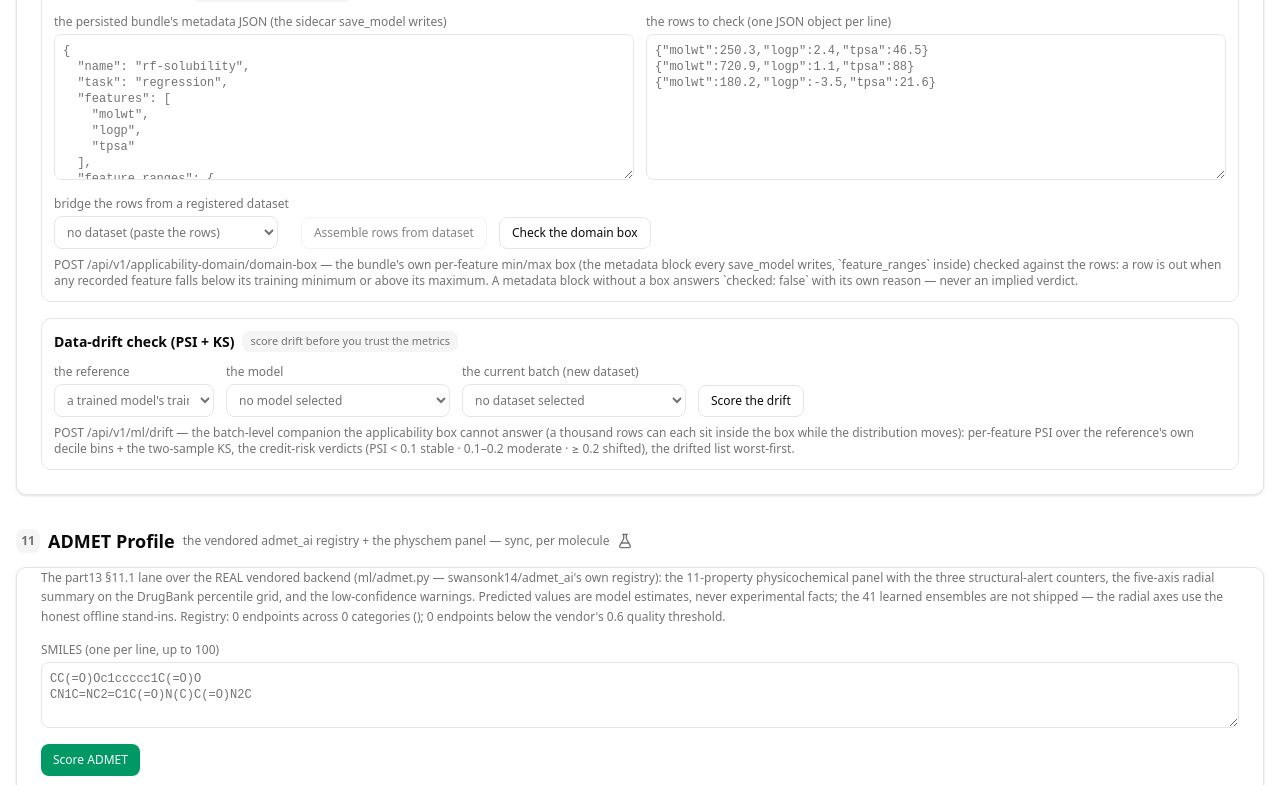
Test: MLPage stage 10f — the ML-5 data-drift lane (the batch-level AD companion) › renders the PSI table with the drifted rows highlighted
The image size is (1280, 785).
(page scrolled)
Select "a registered dataset" in the dropdown named "the drift reference kind" at (134, 400), box 54,384 -> 214,417
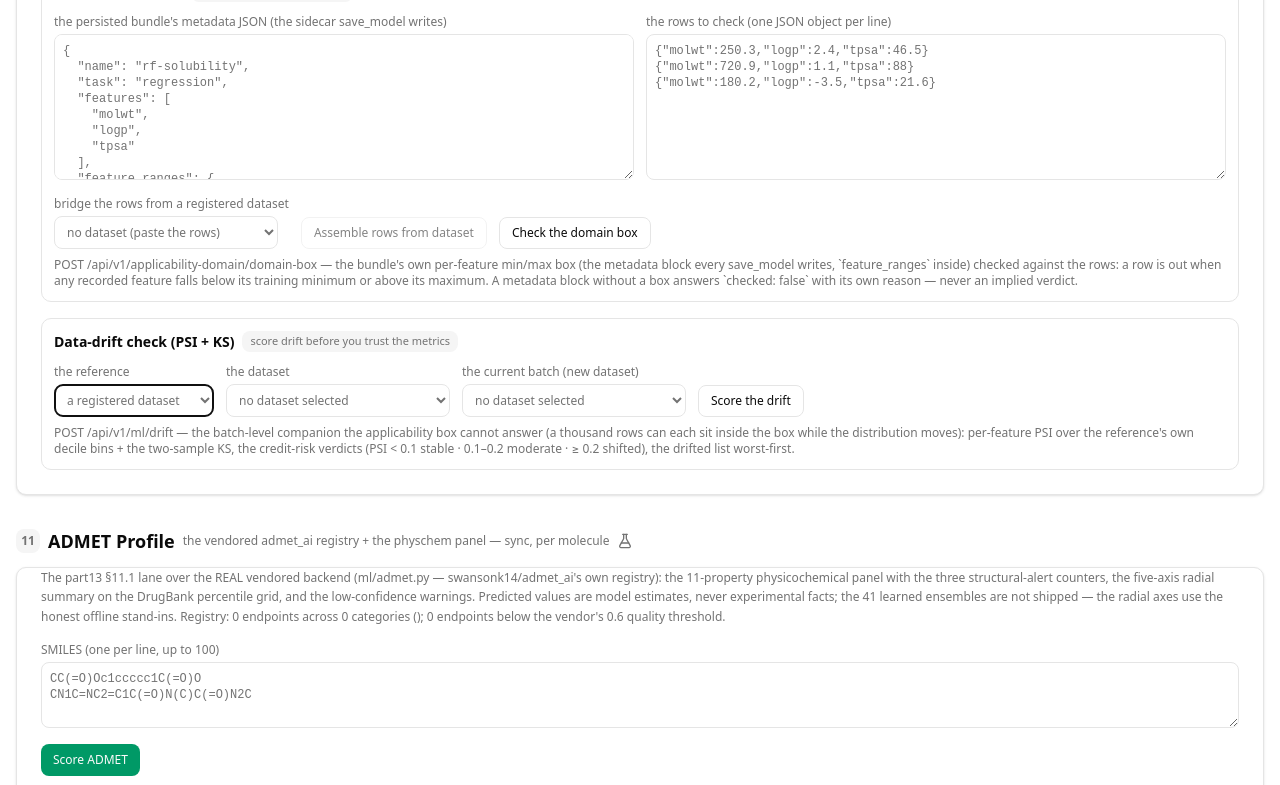
Select "training-batch.csv · 400 rows" in the dropdown named "the drift reference dataset" at (338, 400), box 226,384 -> 450,417
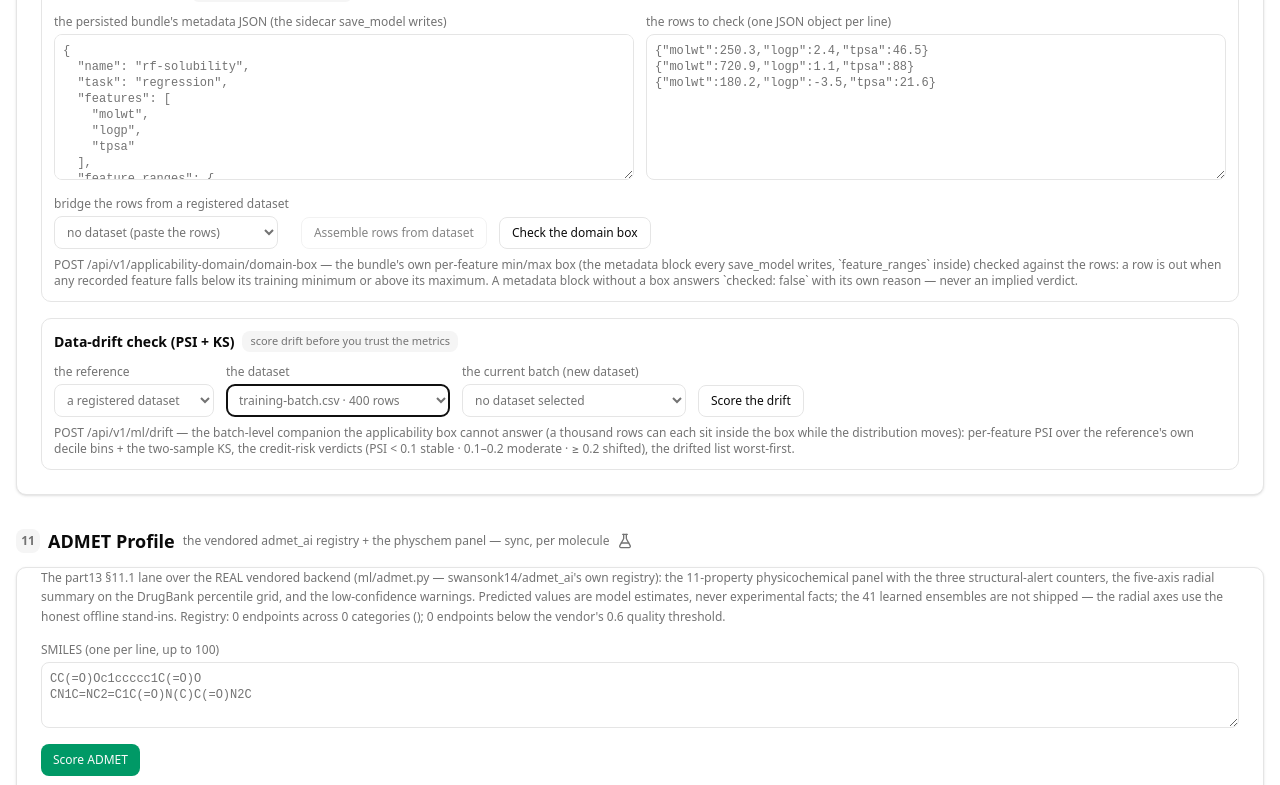
Select "fresh-batch.csv · 400 rows" in the dropdown named "the drift current dataset" at (574, 400), box 462,384 -> 686,417
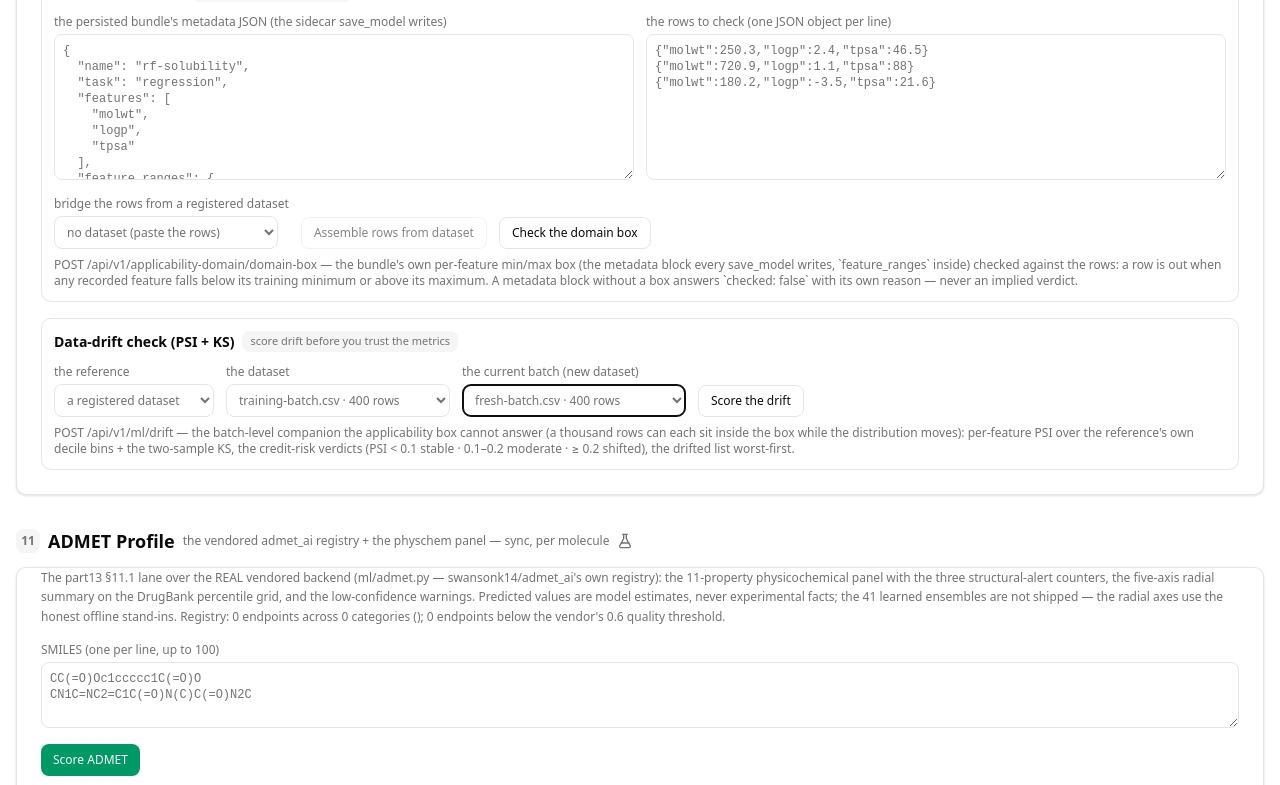
Click the button "Score the drift".
click(751, 401)  # box 698,385 -> 804,417
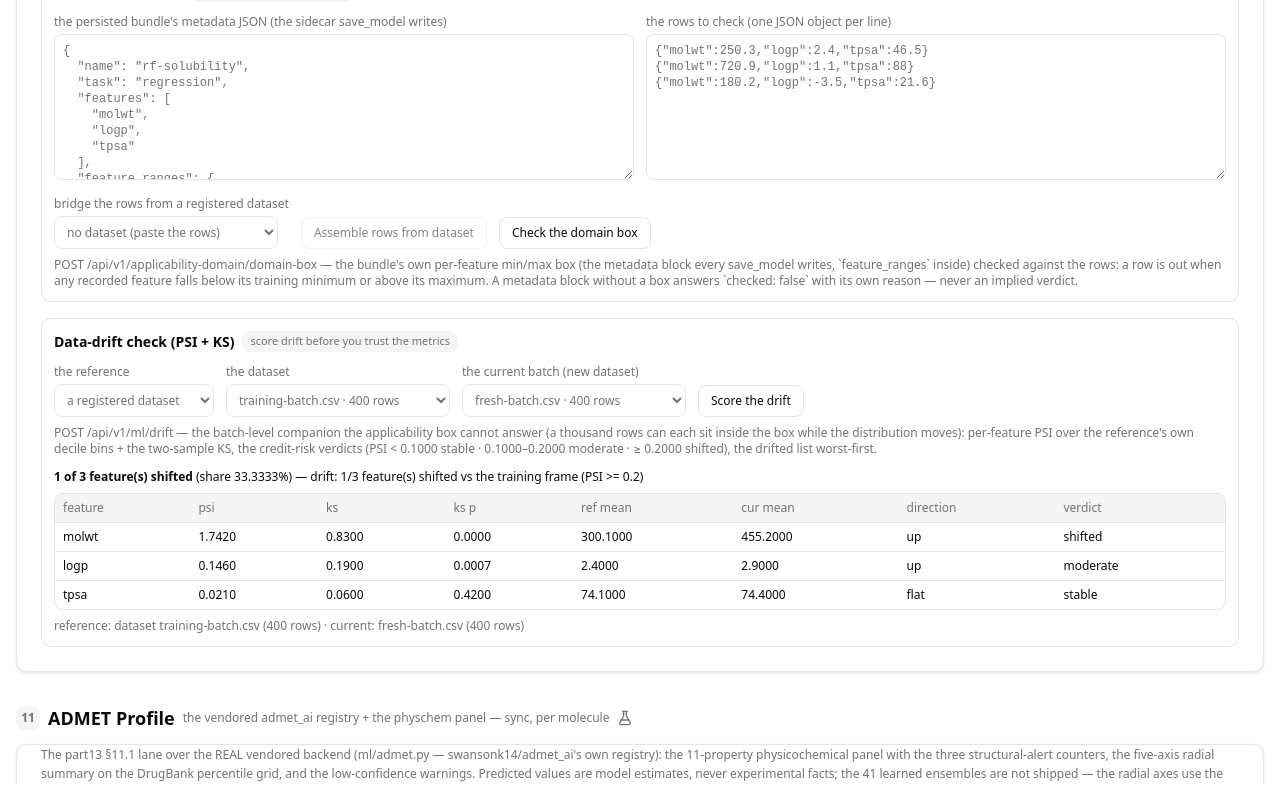
Expected: the text "1 of 3 feature(s) shifted" is shown, 54,468 -> 193,485
Expected: the text "1/3 feature(s) shifted vs the training frame" is shown, 310,468 -> 643,485
Expected: the text "molwt" is shown, 63,528 -> 98,545
